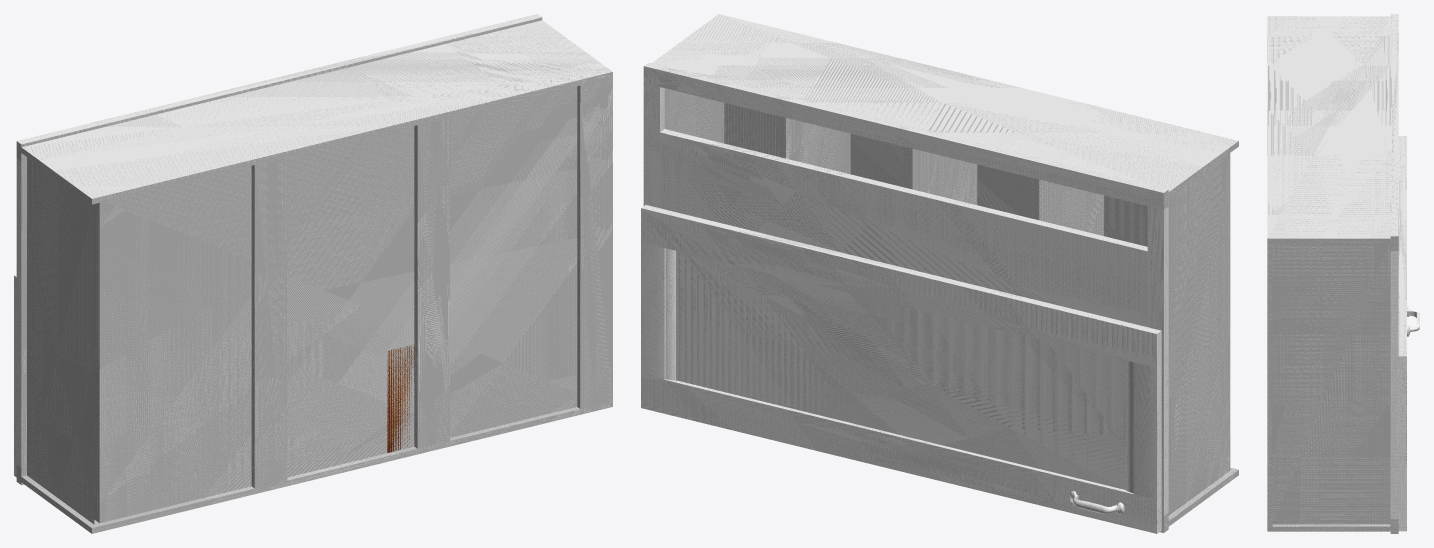
3 renders of one model, left to right at view 1: azimuth 30°, elevation 25°; view 2: azimuth 150°, elevation 25°; view 3: azimuth 270°, elevation 25°, orthographic. The views are drawn at different scales.
Visible parts, largest first — view 1: mesh6_mesh6-geometry, mesh8_mesh8-geometry, mesh3_mesh3-geometry, mesh1_mesh1-geometry, mesh7_mesh7-geometry, mesh9_mesh9-geometry, mesh4_mesh4-geometry, mesh20_mesh20-geometry, mesh2_mesh2-geometry; view 2: mesh17_mesh17-geometry, mesh11_mesh11-geometry, mesh8_mesh8-geometry, mesh1_mesh1-geometry, mesh14_mesh14-geometry, mesh13_mesh13-geometry, mesh9_mesh9-geometry, mesh12_mesh12-geometry, mesh5_mesh5-geometry, mesh4_mesh4-geometry, mesh16_mesh16-geometry, mesh15_mesh15-geometry (+1 smaller); view 3: mesh2_mesh2-geometry, mesh8_mesh8-geometry, mesh4_mesh4-geometry, mesh14_mesh14-geometry, mesh9_mesh9-geometry, mesh3_mesh3-geometry, mesh15_mesh15-geometry, mesh7_mesh7-geometry, mesh13_mesh13-geometry, mesh19_mesh19-geometry.
Part boxes in pixels (x1,y1,x2,y2): mesh6_mesh6-geometry: [99, 86, 577, 523]; mesh8_mesh8-geometry: [21, 20, 612, 204]; mesh3_mesh3-geometry: [251, 77, 612, 488]; mesh1_mesh1-geometry: [27, 157, 94, 524]; mesh7_mesh7-geometry: [21, 401, 612, 533]; mesh9_mesh9-geometry: [16, 14, 542, 161]; mesh4_mesh4-geometry: [16, 158, 26, 467]; mesh20_mesh20-geometry: [387, 345, 414, 452]; mesh2_mesh2-geometry: [94, 203, 99, 522]; mesh17_mesh17-geometry: [676, 251, 1126, 489]; mesh11_mesh11-geometry: [660, 129, 1147, 326]; mesh8_mesh8-geometry: [651, 14, 1238, 197]; mesh1_mesh1-geometry: [664, 88, 1230, 515]; mesh14_mesh14-geometry: [641, 205, 1161, 367]; mesh13_mesh13-geometry: [641, 374, 1161, 533]; mesh9_mesh9-geometry: [643, 62, 1168, 209]; mesh12_mesh12-geometry: [777, 116, 1103, 235]; mesh5_mesh5-geometry: [724, 103, 1147, 246]; mesh4_mesh4-geometry: [643, 83, 1168, 515]; mesh16_mesh16-geometry: [1126, 360, 1161, 499]; mesh15_mesh15-geometry: [641, 242, 675, 380]; mesh2_mesh2-geometry: [1272, 243, 1390, 524]; mesh8_mesh8-geometry: [1267, 16, 1390, 243]; mesh4_mesh4-geometry: [1390, 251, 1398, 518]; mesh14_mesh14-geometry: [1398, 136, 1406, 385]; mesh9_mesh9-geometry: [1390, 14, 1398, 250]; mesh3_mesh3-geometry: [1267, 243, 1272, 526]; mesh15_mesh15-geometry: [1398, 386, 1406, 501]; mesh7_mesh7-geometry: [1267, 524, 1390, 531]; mesh13_mesh13-geometry: [1398, 501, 1406, 531]; mesh19_mesh19-geometry: [1407, 306, 1419, 336].
Bounding box in the file's own units: 0.8235 × 0.5147 × 0.2386.
